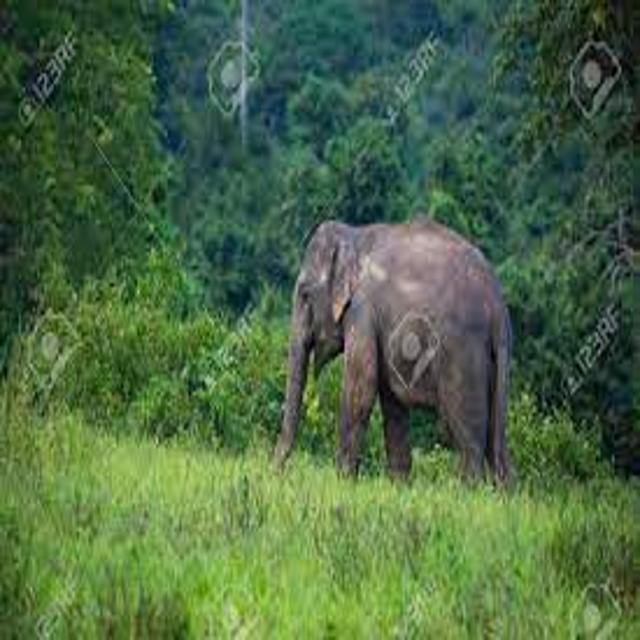Elephant: (257, 197, 539, 527)
